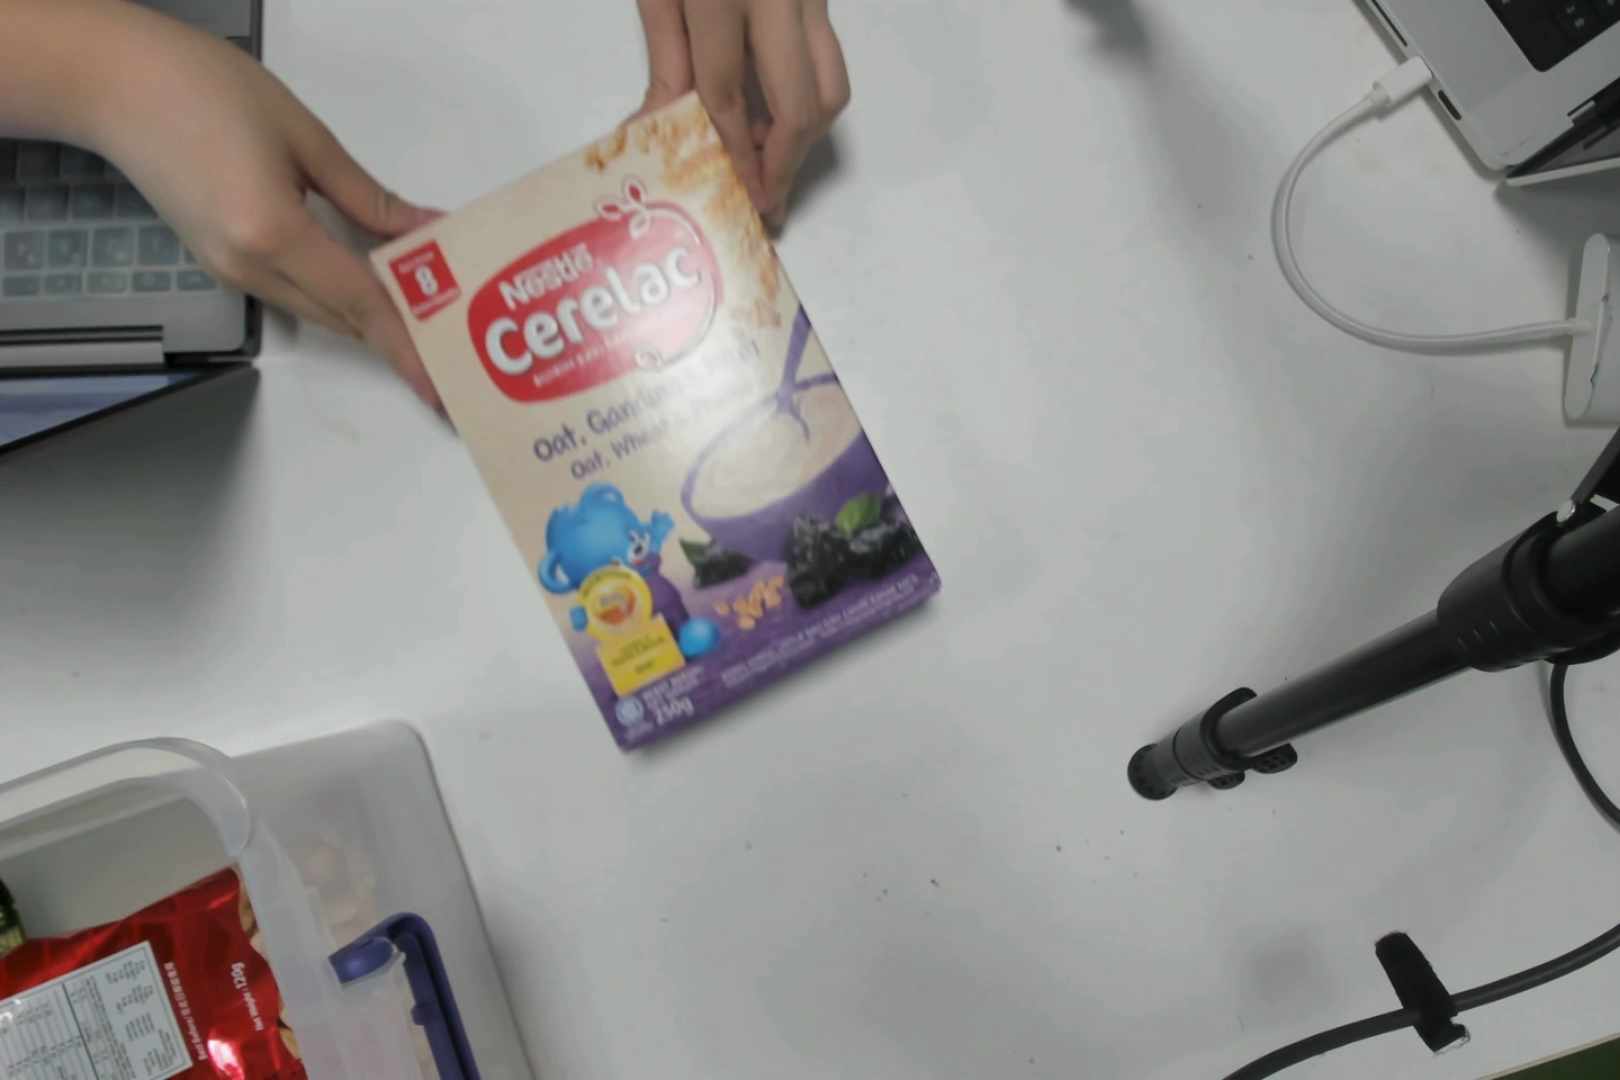b: (399, 190, 810, 736)
